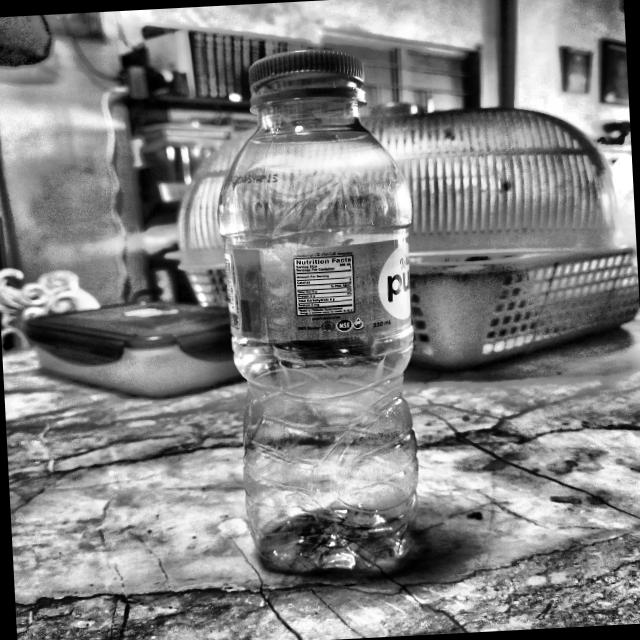Plastic-Bottle: (210, 40, 428, 578)
